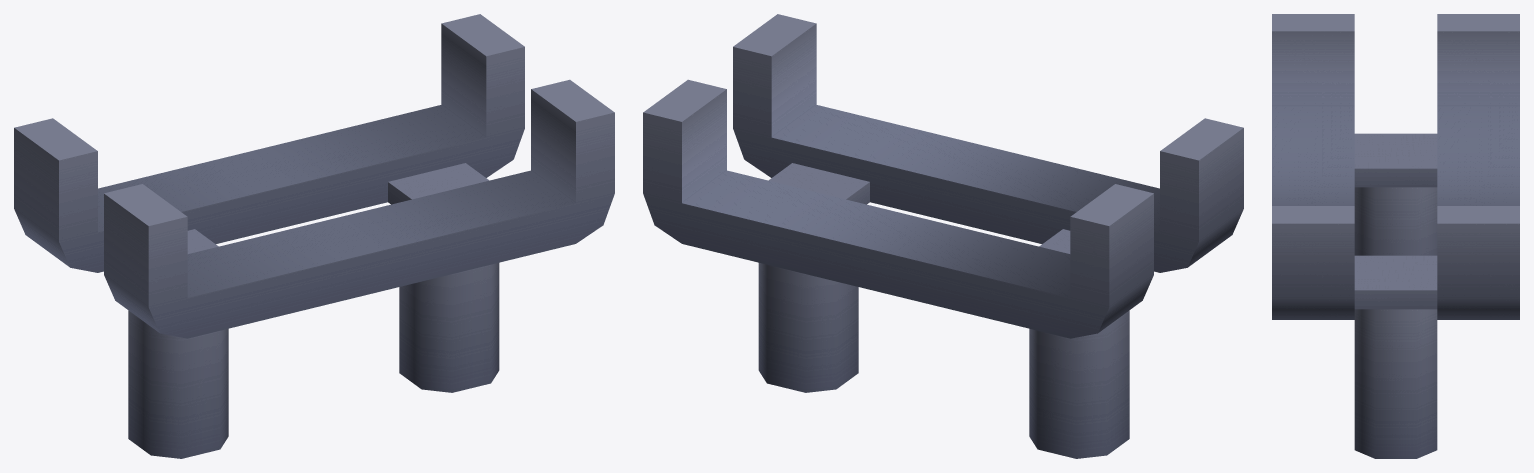
Rendered from support-two-top-double-col.glb.
3 renders of one model, left to right at view 1: azimuth 30°, elevation 25°; view 2: azimuth 150°, elevation 25°; view 3: azimuth 270°, elevation 25°, orthographic. The views are drawn at different scales.
Parts seen in each view (by area): view 1: support-two-top-double-col; view 2: support-two-top-double-col; view 3: support-two-top-double-col.
Boxes of the visible parts, bbox=[...] form: support-two-top-double-col: bbox=[14, 14, 614, 458]; support-two-top-double-col: bbox=[643, 14, 1243, 458]; support-two-top-double-col: bbox=[1272, 14, 1519, 458].
Bounding box in the file's own units: 1.2 × 0.7 × 0.6.
Materials: 1 (1 with a texture image).
